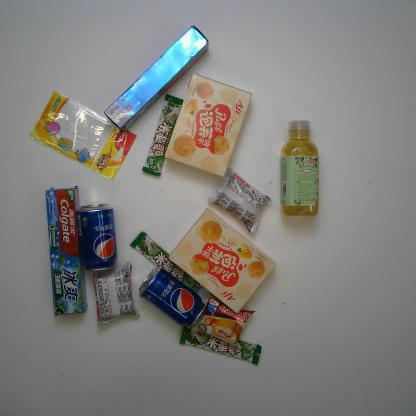Chocolate: (130, 232, 204, 296), (144, 92, 184, 176), (178, 325, 262, 363)
Dessert: (167, 207, 276, 314), (164, 73, 253, 178), (209, 167, 274, 235), (189, 293, 254, 345), (90, 262, 140, 328)
Drink: (140, 266, 210, 328), (278, 119, 320, 216), (76, 203, 119, 275)
Personal Hygiene: (104, 26, 209, 131), (41, 186, 88, 318)
Stationery: (29, 90, 137, 182)
